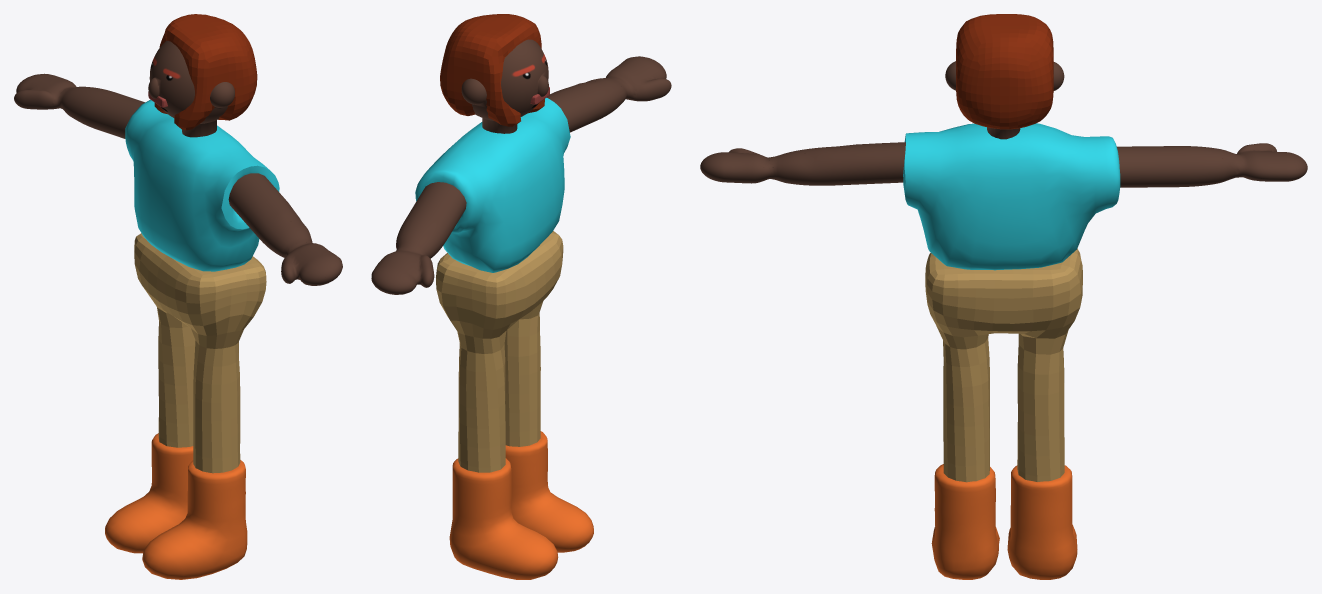
Rendered from NPC_Man_T-Pose.fbx.
3 renders of one model, left to right at view 1: azimuth 30°, elevation 25°; view 2: azimuth 150°, elevation 25°; view 3: azimuth 270°, elevation 25°, orthographic. The views are drawn at different scales.
Visible parts, largest first — view 1: Retopo_Capsule.003, Retopo_Cube.006, Sphere.001, Retopo_Capsule.008, Box, Retopo_Capsule.007; view 2: Retopo_Capsule.003, Retopo_Cube.006, Sphere.001, Retopo_Capsule.007, Box, Retopo_Capsule.008; view 3: Retopo_Cube.006, Retopo_Capsule.003, Sphere.001, Box, Retopo_Capsule.007, Retopo_Capsule.008.
Part boxes in pixels (<box>): Retopo_Capsule.003: <box>134,233,266,473</box>; Retopo_Cube.006: <box>125,99,279,271</box>; Sphere.001: <box>14,40,342,285</box>; Retopo_Capsule.008: <box>142,460,247,579</box>; Box: <box>154,14,257,130</box>; Retopo_Capsule.007: <box>105,433,193,553</box>; Retopo_Capsule.003: <box>436,231,563,472</box>; Retopo_Cube.006: <box>415,97,570,272</box>; Sphere.001: <box>371,39,671,294</box>; Retopo_Capsule.007: <box>449,458,558,579</box>; Box: <box>440,14,544,126</box>; Retopo_Capsule.008: <box>505,431,593,552</box>; Retopo_Cube.006: <box>903,123,1120,270</box>; Retopo_Capsule.003: <box>925,248,1082,482</box>; Sphere.001: <box>700,61,1307,187</box>; Box: <box>956,14,1053,129</box>; Retopo_Capsule.007: <box>1007,465,1077,579</box>; Retopo_Capsule.008: <box>931,464,999,579</box>.
Bounding box in the file's own units: 40.08 × 167 × 165.
